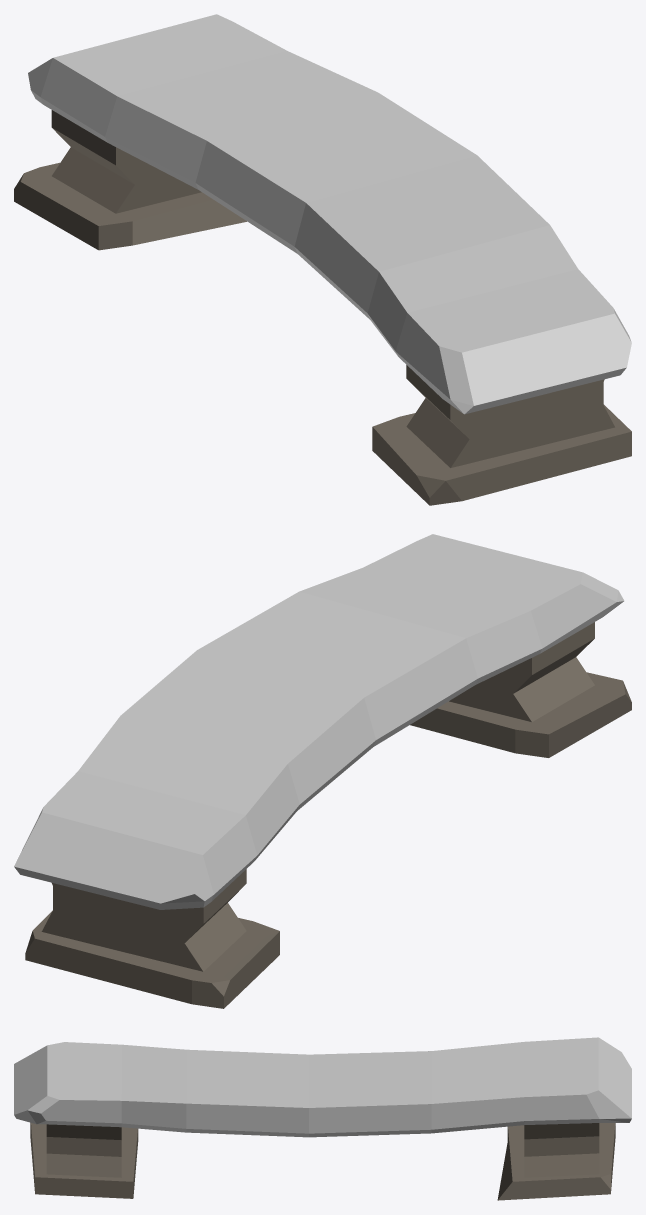
File: Bench_Stone_Furn.glb
3 renders of one model, top to bottom at view 1: azimuth 30°, elevation 25°; view 2: azimuth 150°, elevation 25°; view 3: azimuth 270°, elevation 25°, orthographic. The views are drawn at different scales.
Parts seen in each view (by area): view 1: Bench_Stone_Furn; view 2: Bench_Stone_Furn; view 3: Bench_Stone_Furn.
Boxes of the visible parts, x1=… form: Bench_Stone_Furn: x1=14, y1=14, x2=631, y2=505; Bench_Stone_Furn: x1=14, y1=534, x2=631, y2=1008; Bench_Stone_Furn: x1=14, y1=1037, x2=631, y2=1200.
Bounding box in the file's own units: 1.17 × 0.6575 × 3.62.
1 material, 1 textured.
